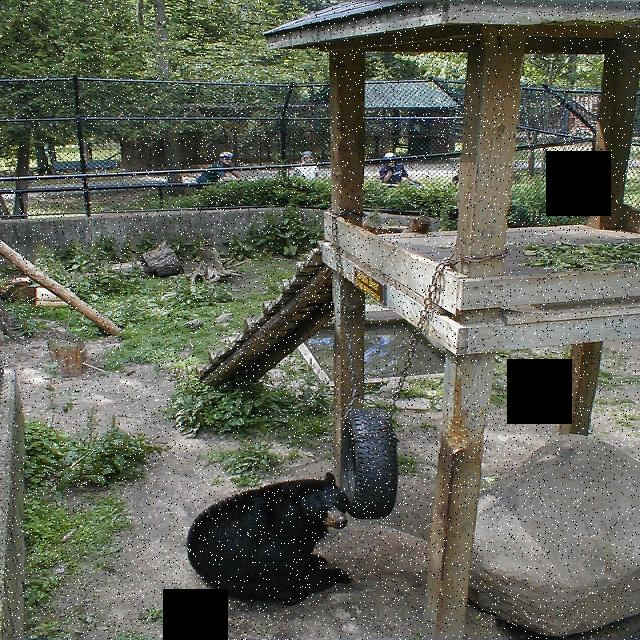Bear: (186, 468, 363, 608)
